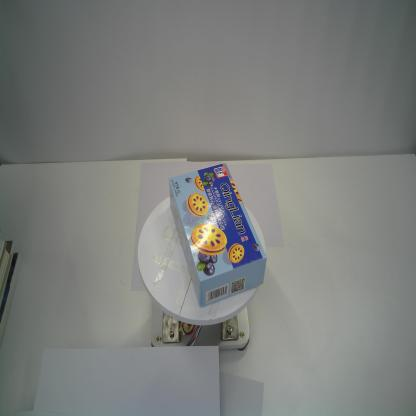Dessert: (168, 161, 267, 308)
